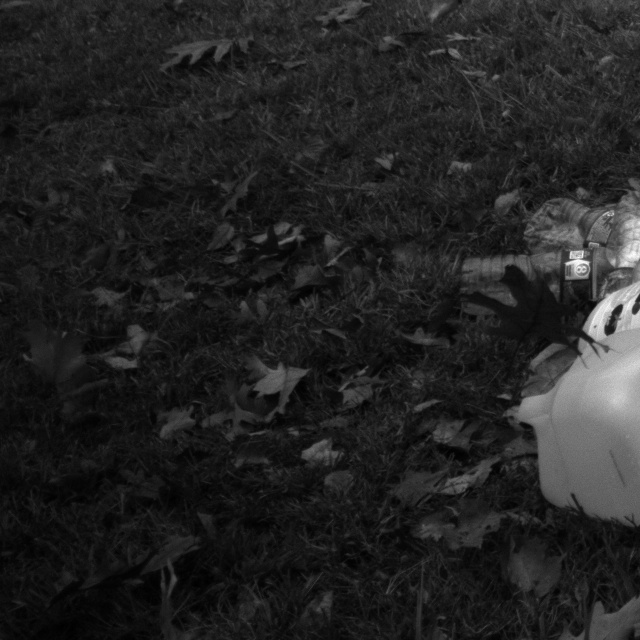bottle: (411, 234, 616, 315), (583, 179, 640, 320)
can: (493, 348, 640, 529)
